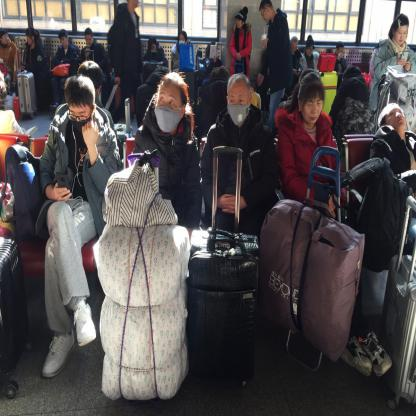Not_Wearing_Mask: (302, 95, 324, 126), (385, 106, 406, 134), (394, 26, 408, 46), (260, 9, 268, 25), (60, 36, 68, 49), (1, 32, 9, 43), (235, 16, 241, 28), (85, 36, 92, 46), (26, 33, 31, 46), (306, 46, 312, 56), (291, 43, 297, 53), (338, 46, 343, 57), (150, 45, 156, 54)
Wearing_Mask: (154, 90, 181, 132), (226, 92, 249, 128), (67, 107, 89, 139), (178, 36, 185, 48)
